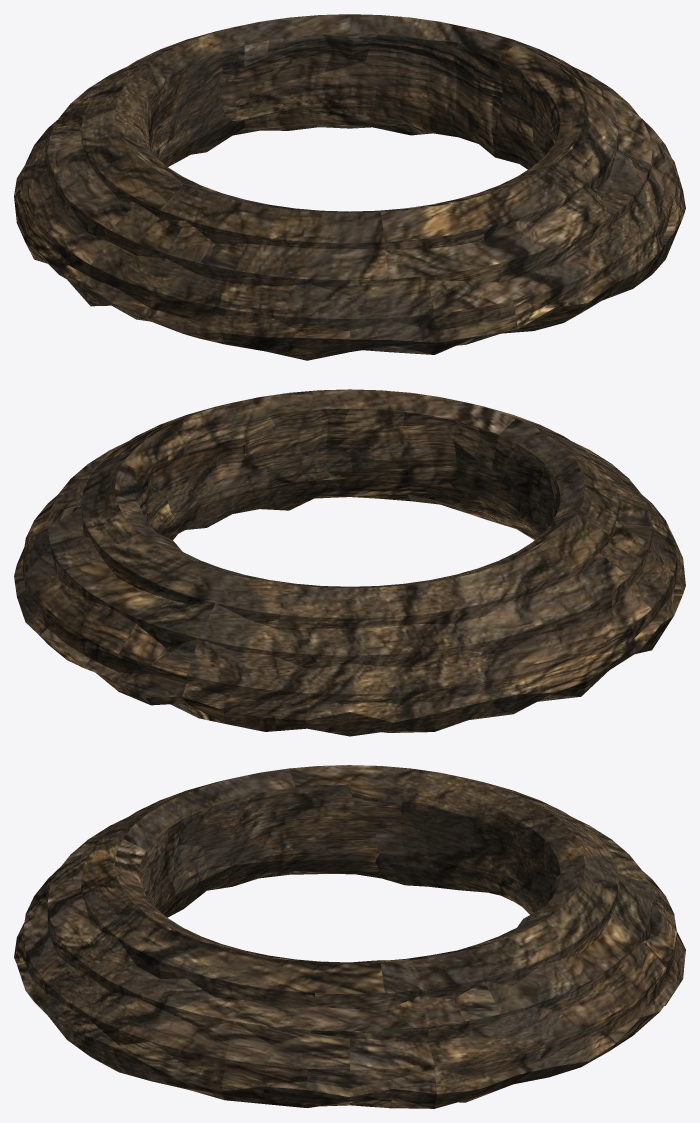
The model's file is Gate.fbx.
3 views of the same model, one above another, from view 1: azimuth 30°, elevation 25°; view 2: azimuth 150°, elevation 25°; view 3: azimuth 270°, elevation 25° (orthographic).
Parts seen in each view (by area): view 1: Torus; view 2: Torus; view 3: Torus.
Boxes of the visible parts, x1,y1,x2,y2 form: Torus: (14,14,685,360); Torus: (14,389,685,736); Torus: (14,765,685,1108).
Size of the model in its own units: 3.12 by 0.6308 by 3.13.
